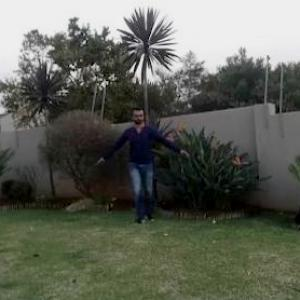land: (91, 99, 194, 231)
